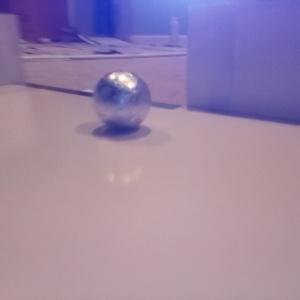alive_ball: (92, 71, 152, 132)
